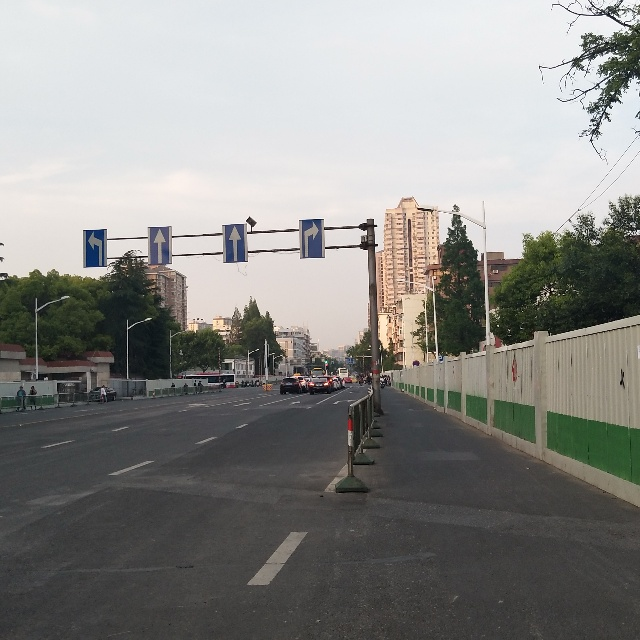left: (85, 230, 106, 268)
right: (303, 220, 323, 259)
straight: (223, 225, 246, 262), (149, 226, 170, 265)
